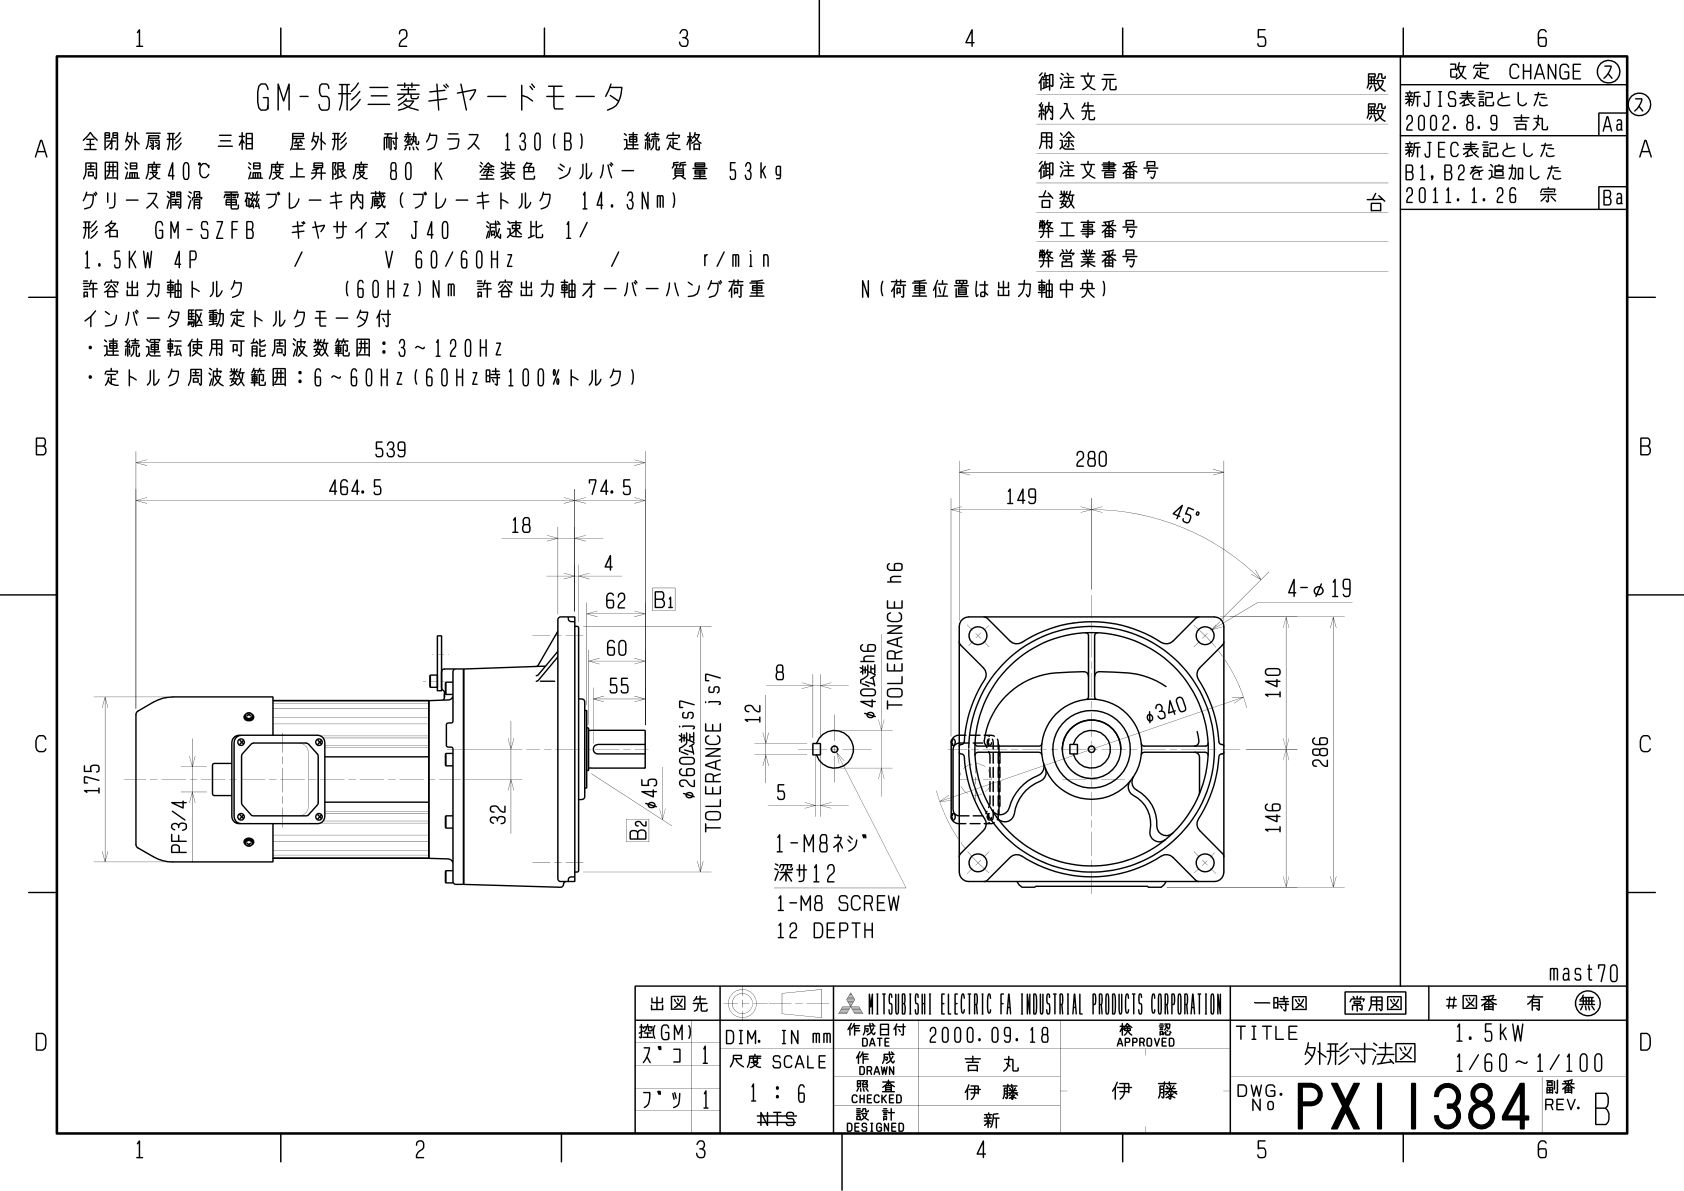GM_S_インバタ屋外＿三相_フランジ: (73, 398, 1389, 962)
